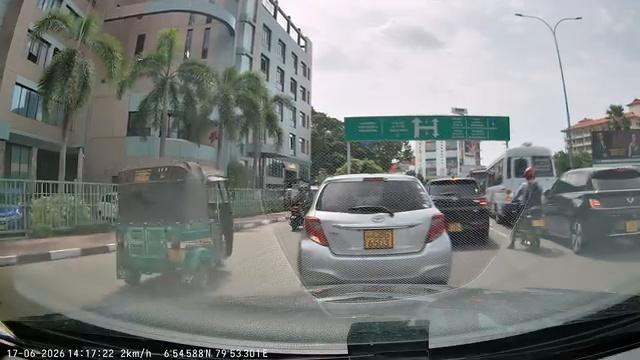number plate: (359, 225, 400, 255)
